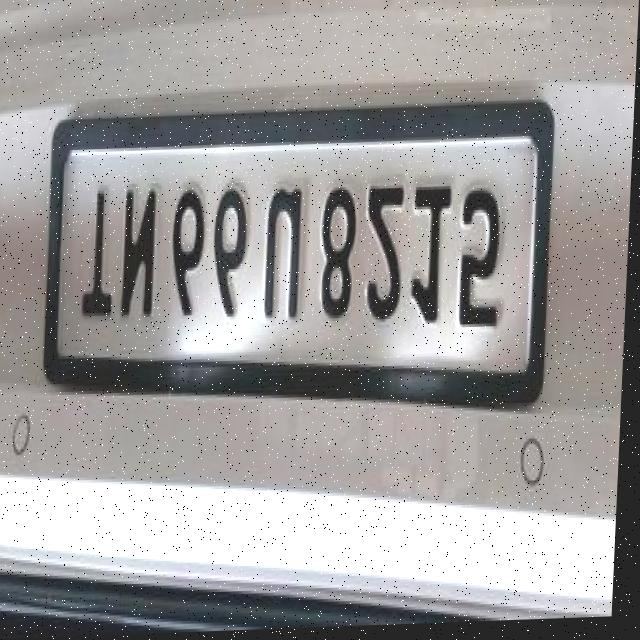plate: (55, 138, 540, 395)
